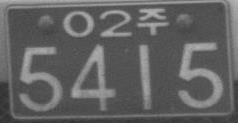0: (62, 9, 95, 38)
1: (125, 44, 167, 110)
2: (99, 9, 133, 37)
4: (70, 43, 116, 111)
5: (177, 41, 224, 109), (18, 45, 63, 113)
주: (137, 7, 169, 35)
